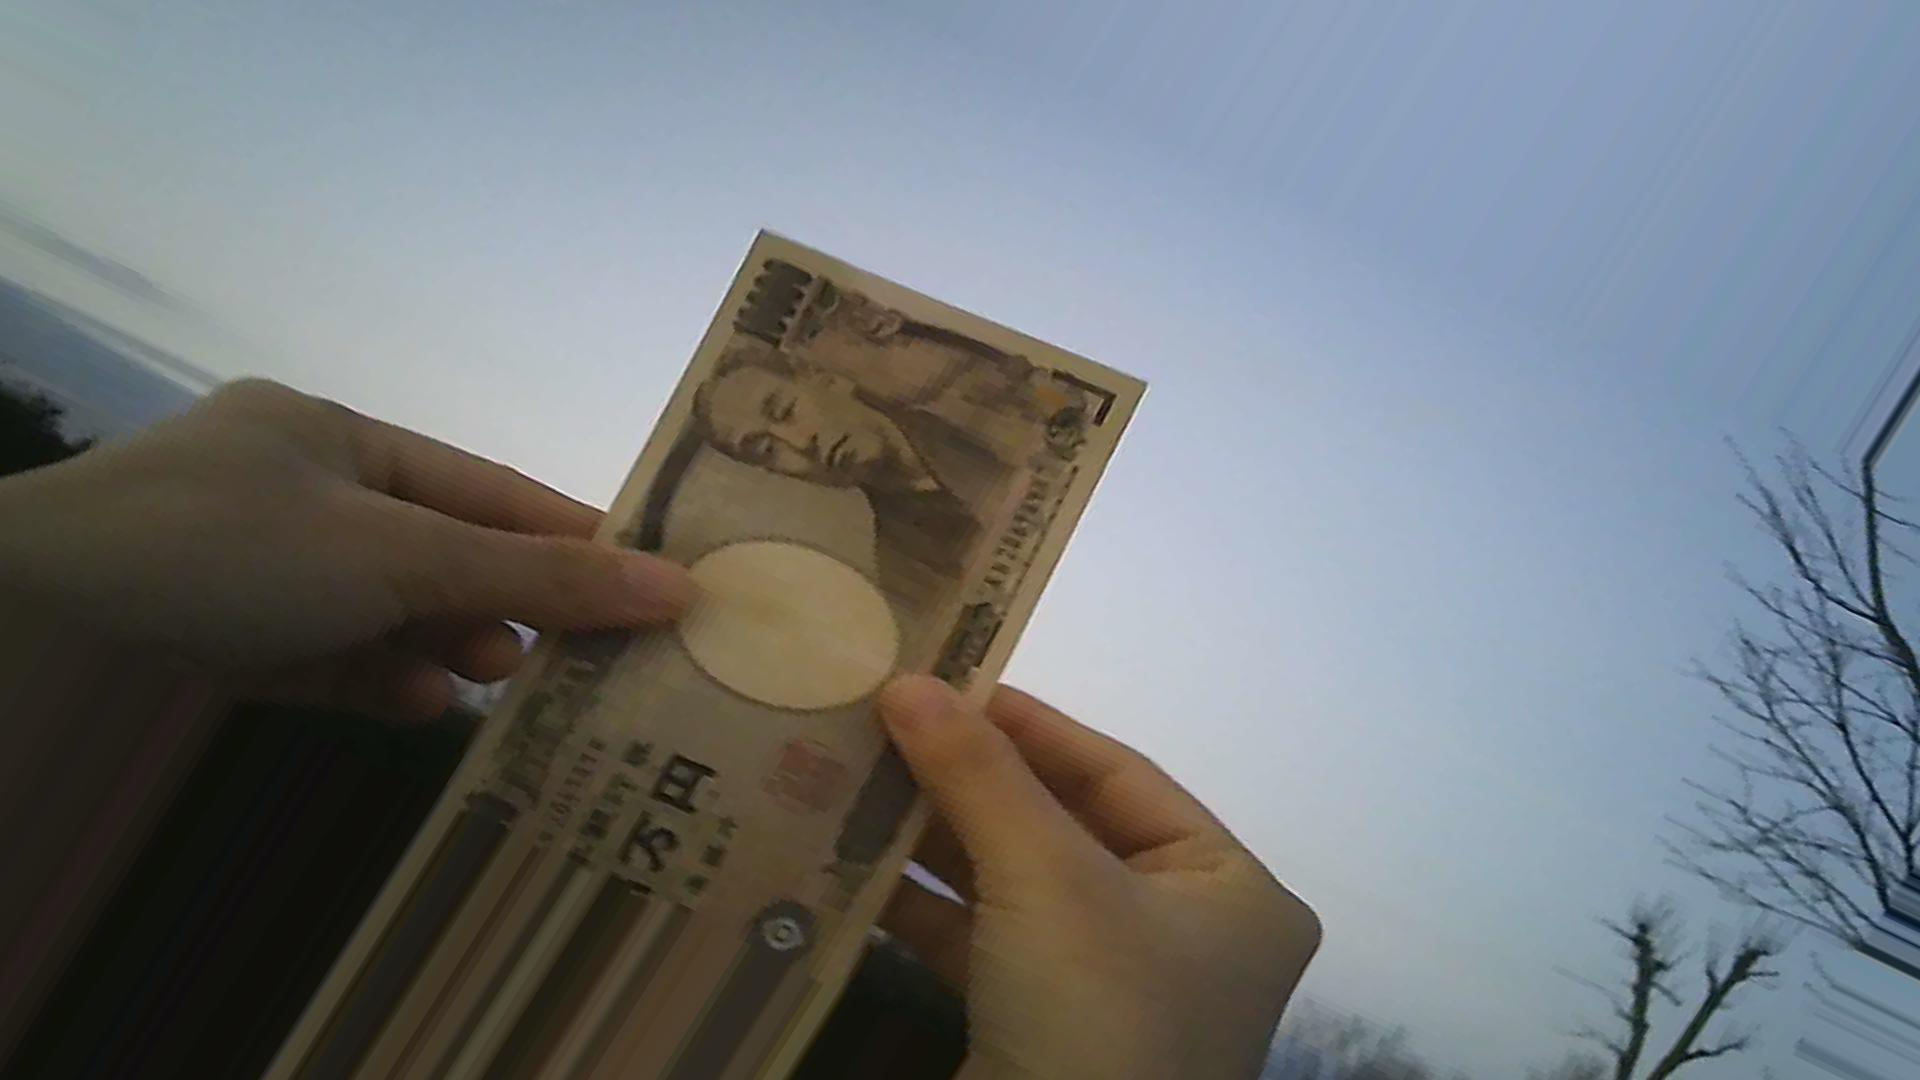10,000 Yen: (423, 220, 1156, 996)
